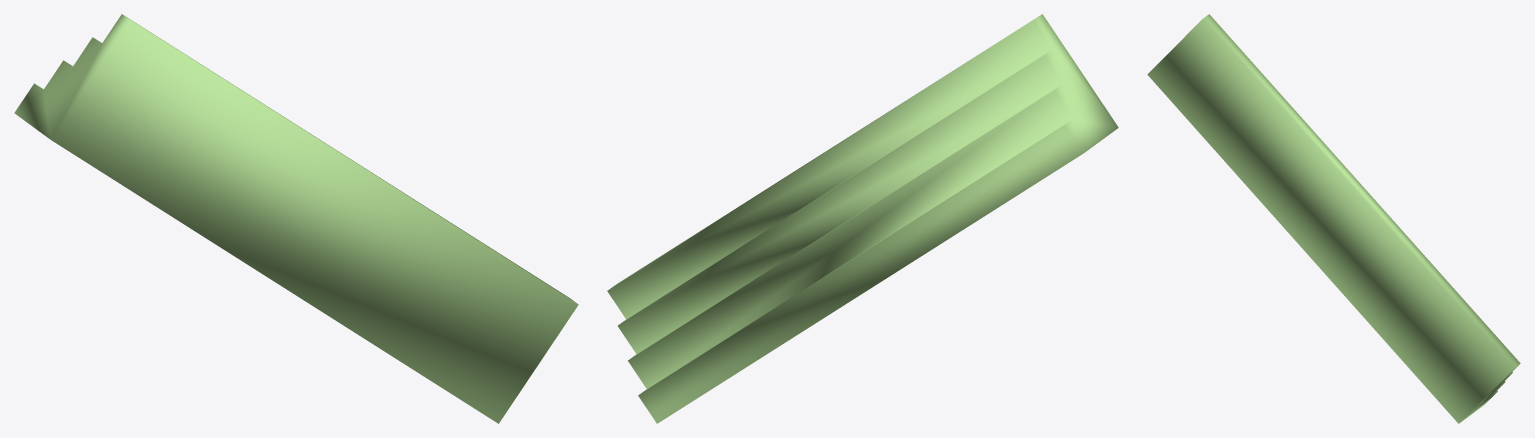
The model's file is StraightStair001.005.obj.
The picture shows the model from 3 angles, left to right: view 1: azimuth 30°, elevation 25°; view 2: azimuth 150°, elevation 25°; view 3: azimuth 330°, elevation 25°; orthographic projection. The views are drawn at different scales.
Parts seen in each view (by area): view 1: StraightStair001.005; view 2: StraightStair001.005; view 3: StraightStair001.005.
Part boxes in pixels (<box>): StraightStair001.005: <box>14,14,578,423</box>; StraightStair001.005: <box>607,14,1118,423</box>; StraightStair001.005: <box>1147,14,1520,423</box>.
Size of the model in its own units: 1.92 by 1.71 by 0.2317.
